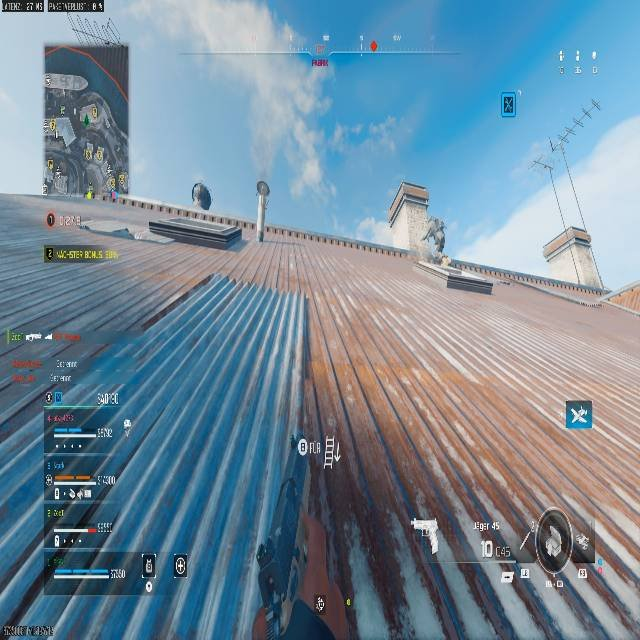player: (423, 215, 449, 267)
